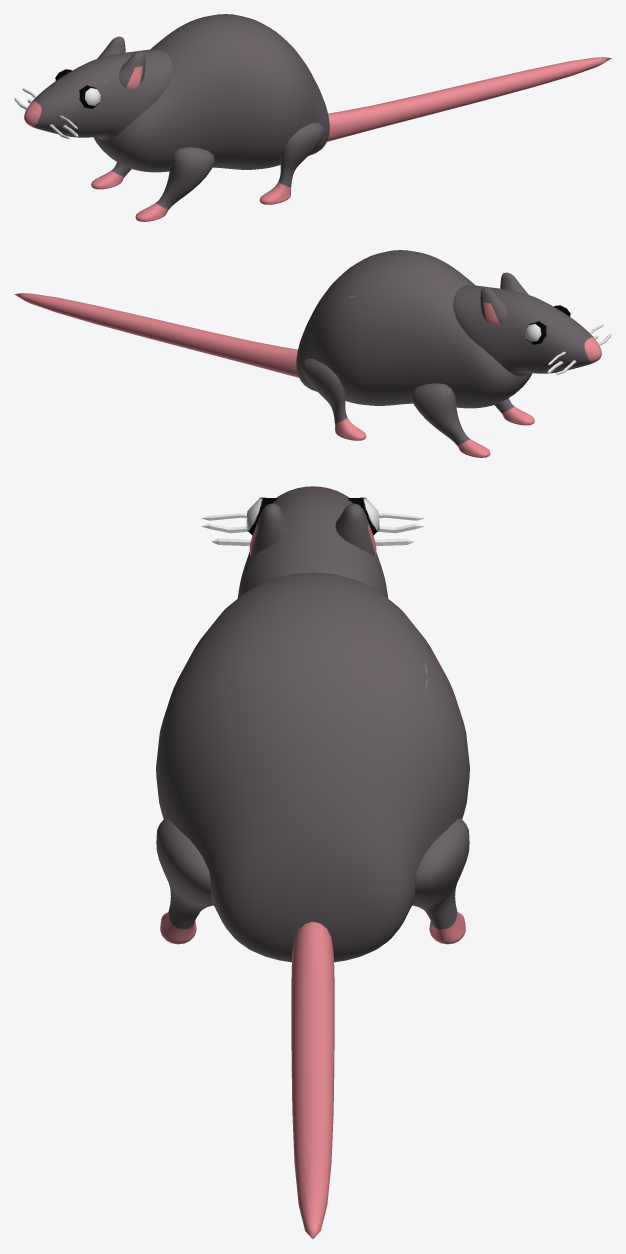
The model's file is ratformatt.fbx.
The picture shows the model from 3 angles, top to bottom: view 1: azimuth 30°, elevation 25°; view 2: azimuth 150°, elevation 25°; view 3: azimuth 270°, elevation 25°; orthographic projection. The views are drawn at different scales.
Parts seen in each view (by area): view 1: Bake; view 2: Bake; view 3: Bake.
Part boxes in pixels (x1=…): Bake: x1=14, y1=14, x2=611, y2=221; Bake: x1=14, y1=250, x2=611, y2=457; Bake: x1=156, y1=486, x2=469, y2=1238.
Size of the model in its own units: 234 by 60.64 by 54.24.
1 material, 1 textured.
